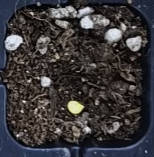pepper seed: (23, 41, 109, 157)
